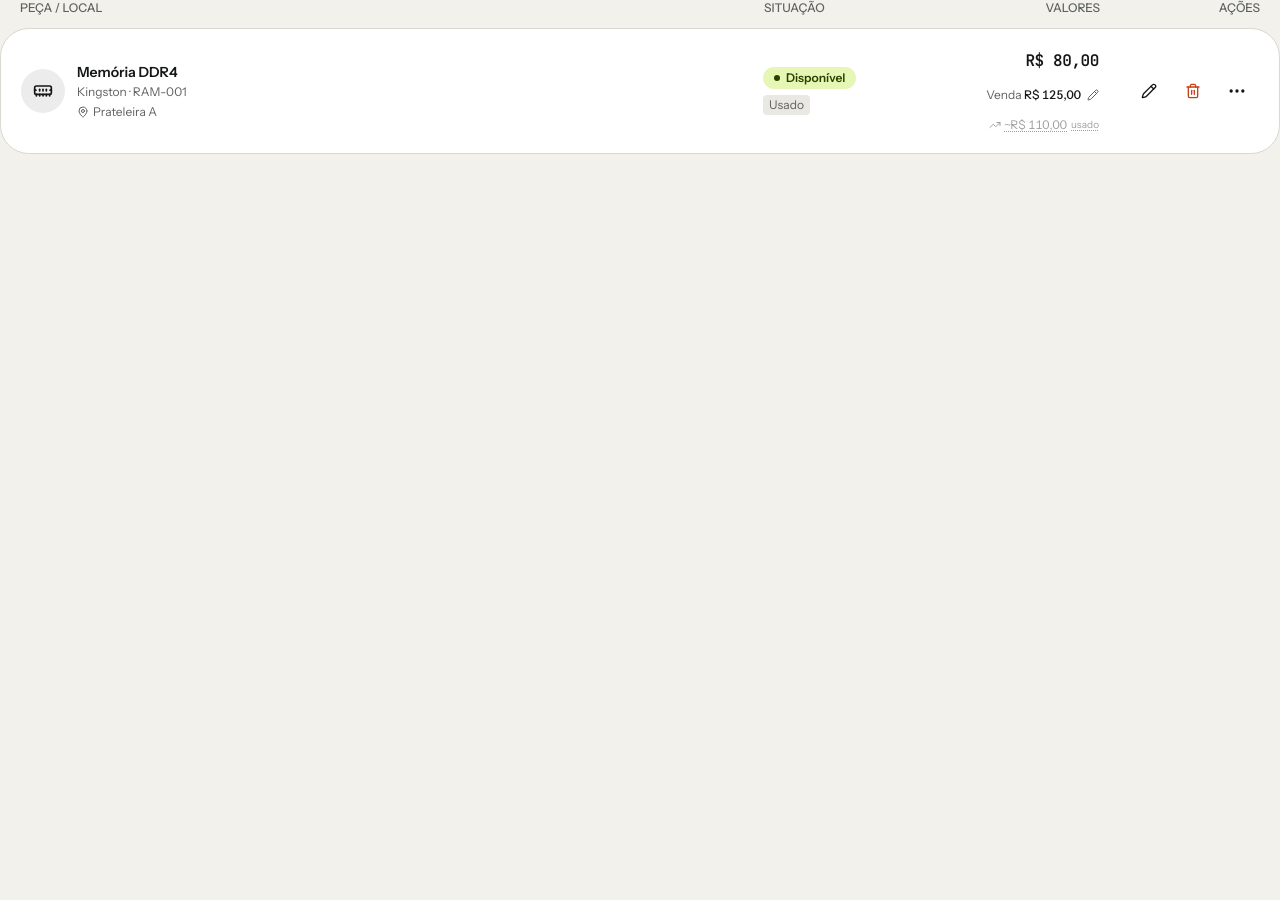
Test: ações da lista de estoque › oferece edição no menu de opções e no botão direito
This screenshot has width=1280, height=900.
Click the button named "Opções de Memória DDR4": (1237, 91) left=1215, top=69, right=1259, bottom=113
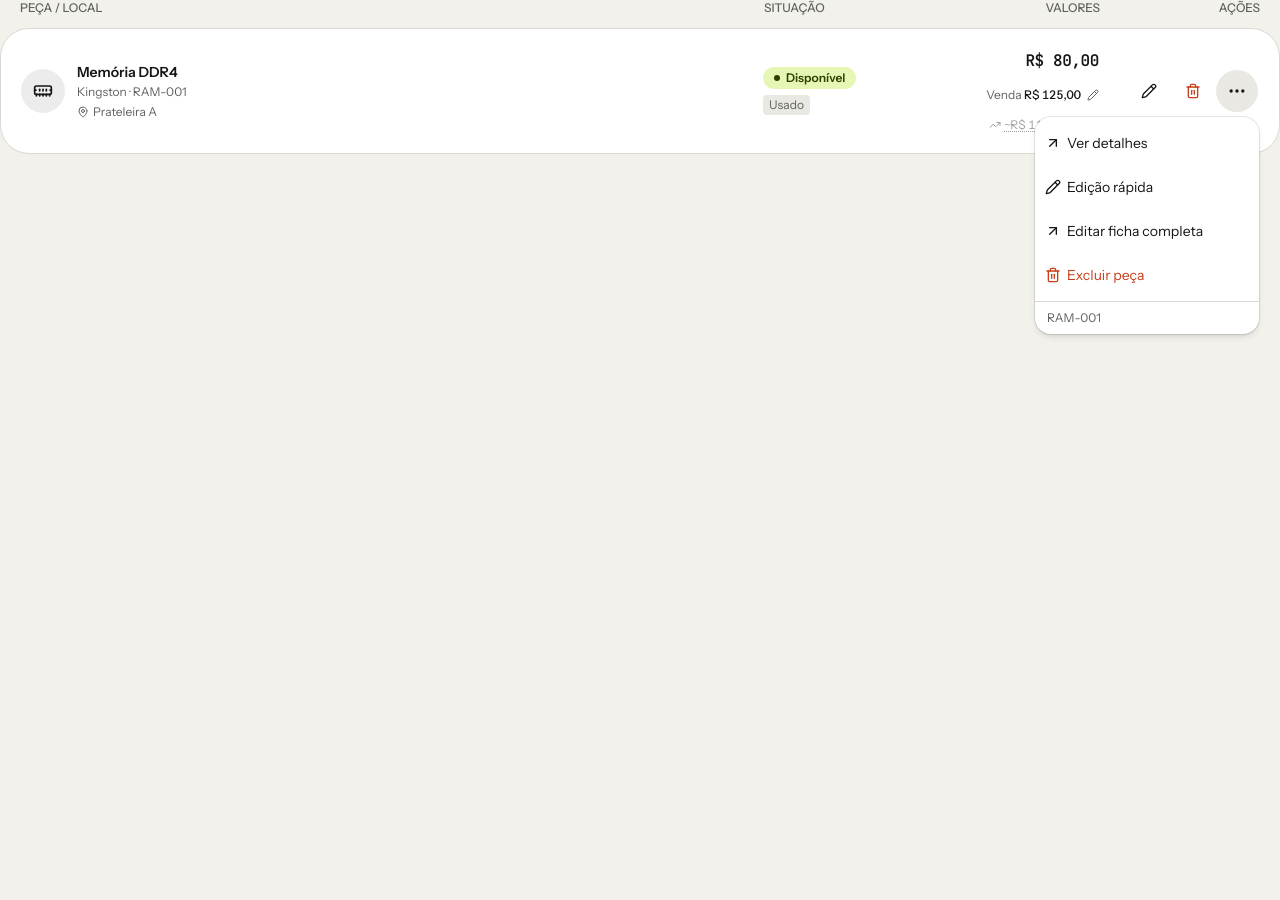
Result: the menu item "Edição rápida" is shown at left=1045, top=178, right=1153, bottom=196
Press Escape
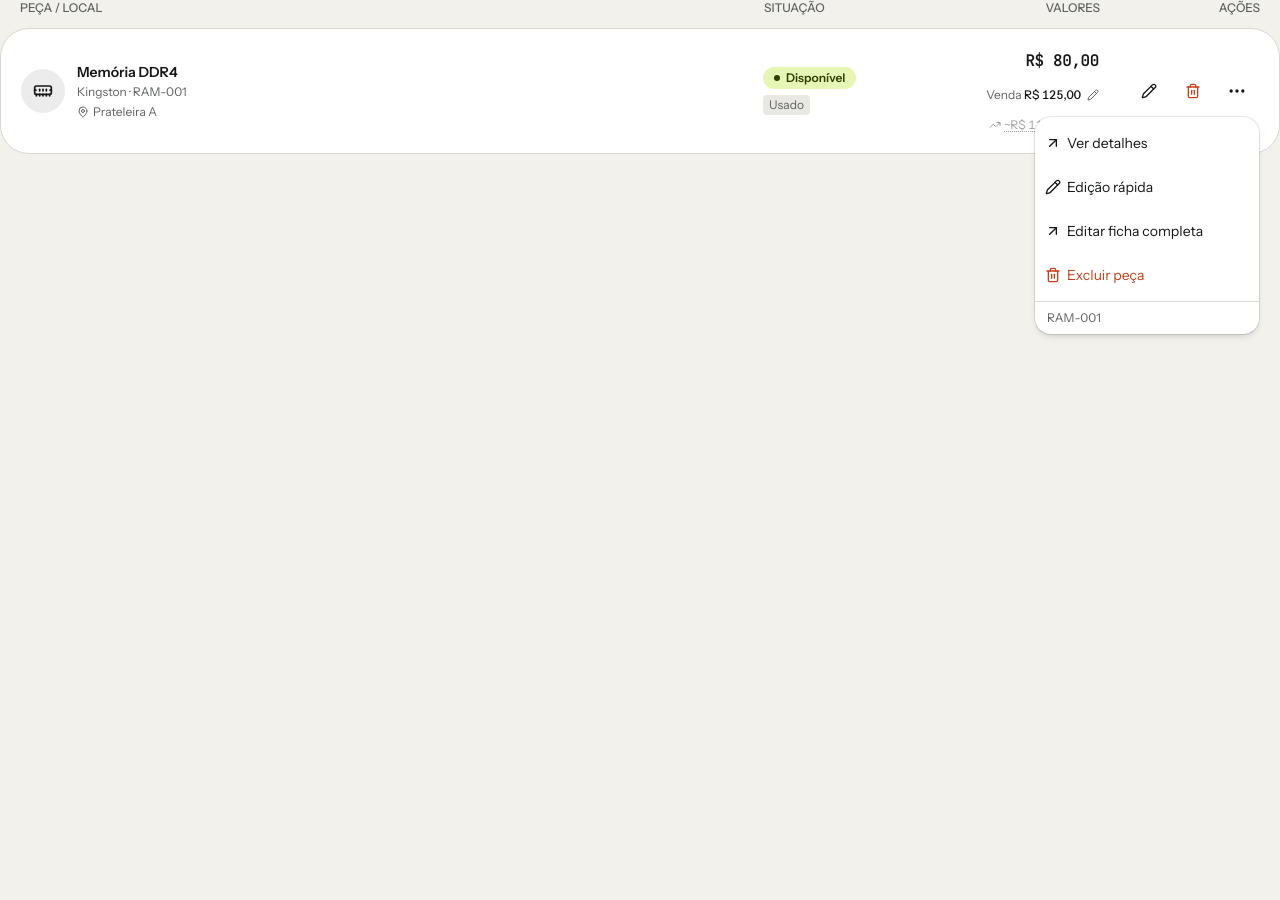
Right-click the text "Memória DDR4": (132, 72) left=77, top=62, right=187, bottom=82
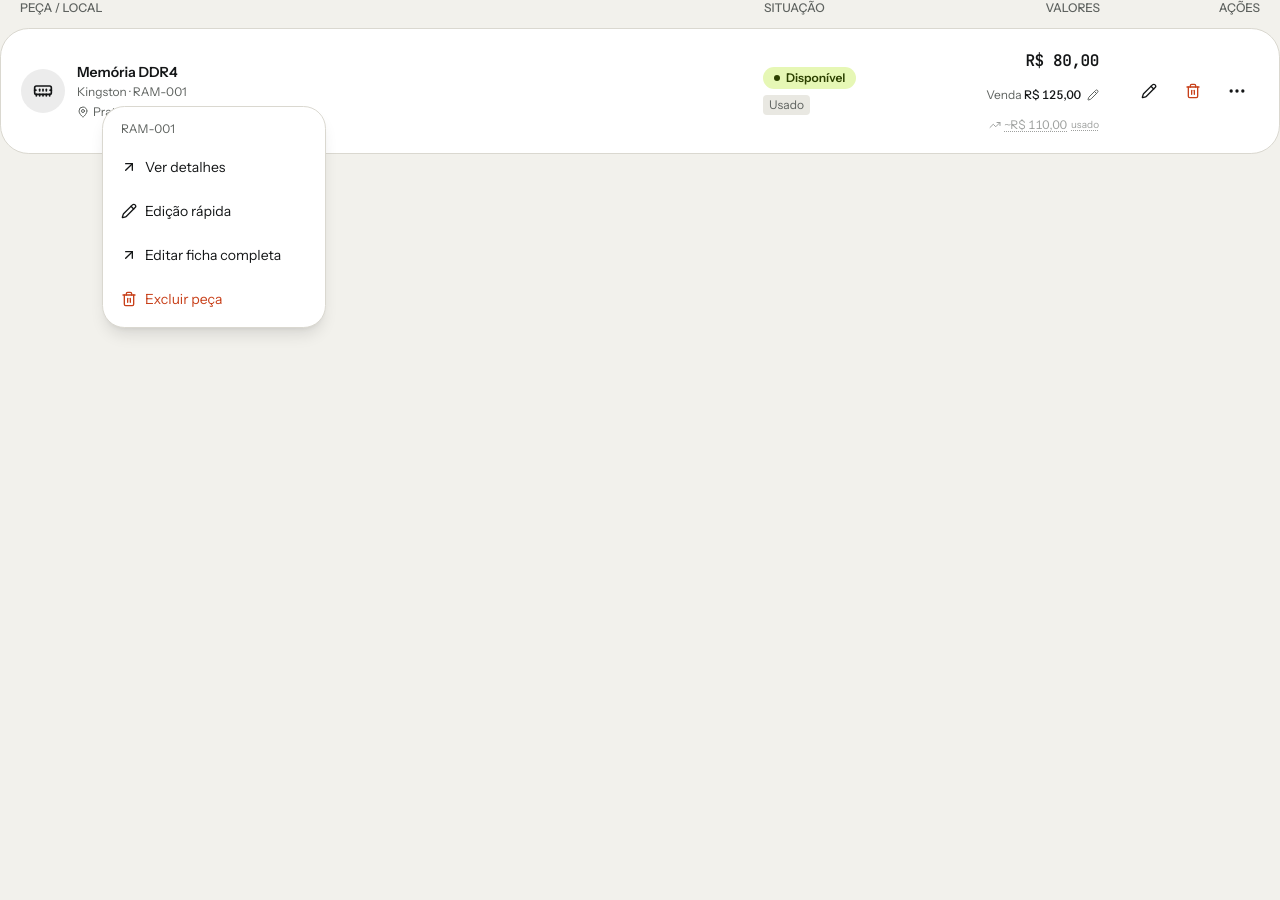
Result: the menu item "Editar ficha completa" is shown at left=121, top=246, right=281, bottom=264
Click the menu item "Edição rápida": (176, 211) left=121, top=202, right=231, bottom=220
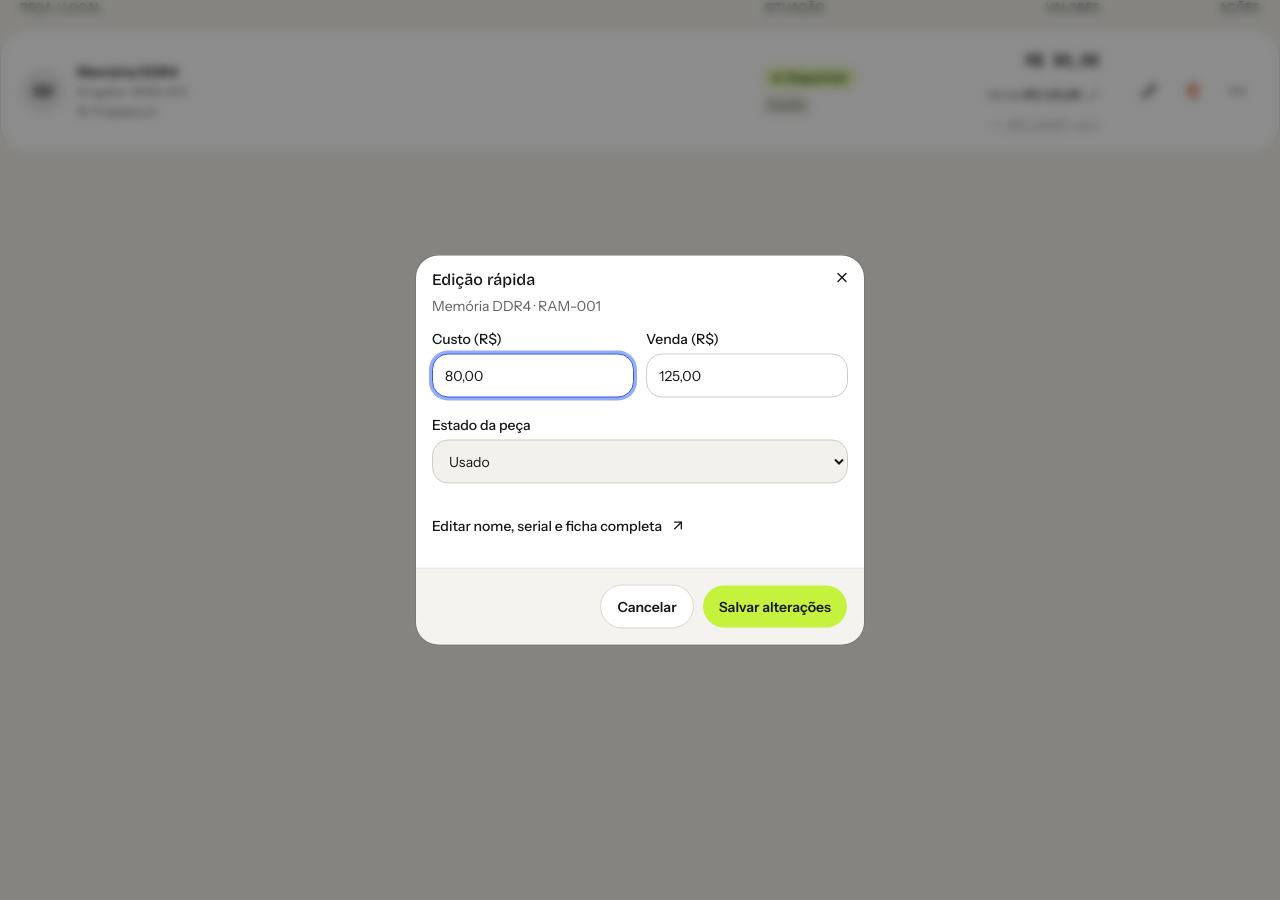
Result: the dialog is shown at left=416, top=256, right=864, bottom=644
